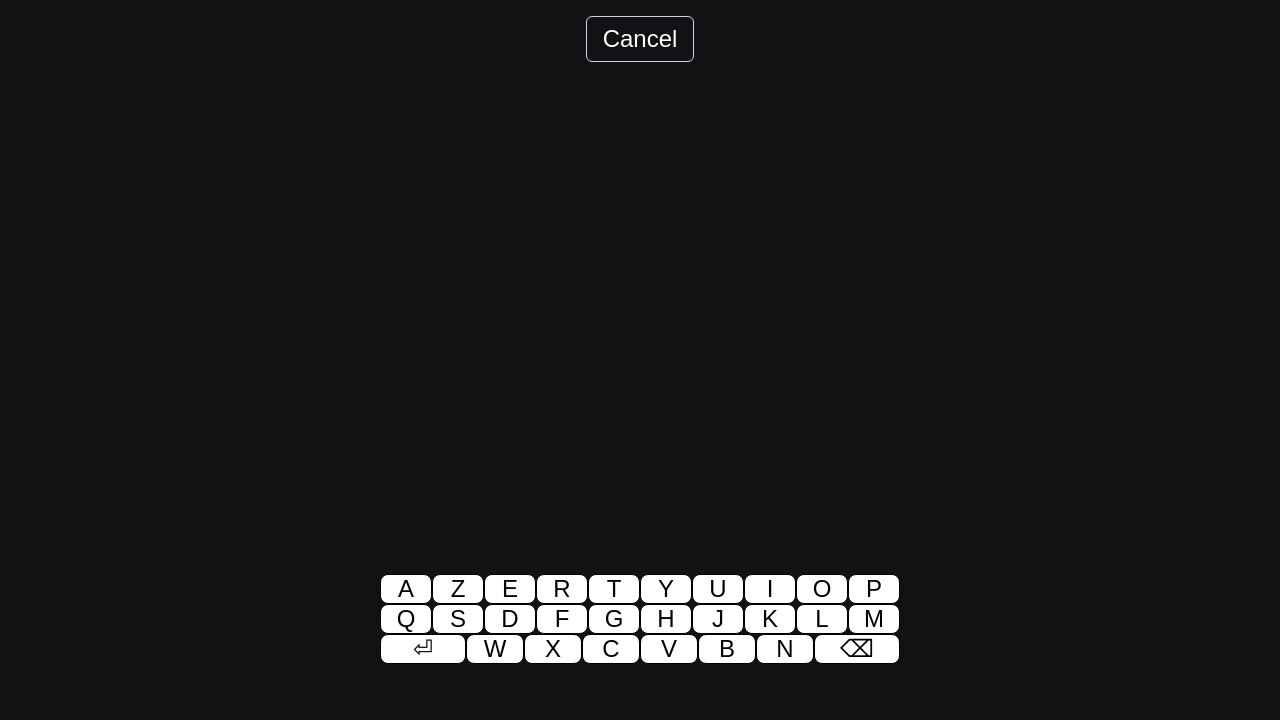
Test: game › should open the confirmation modal when Cancel is clicked
Click the button "Cancel" at [640, 39], box [586,16,694,62]
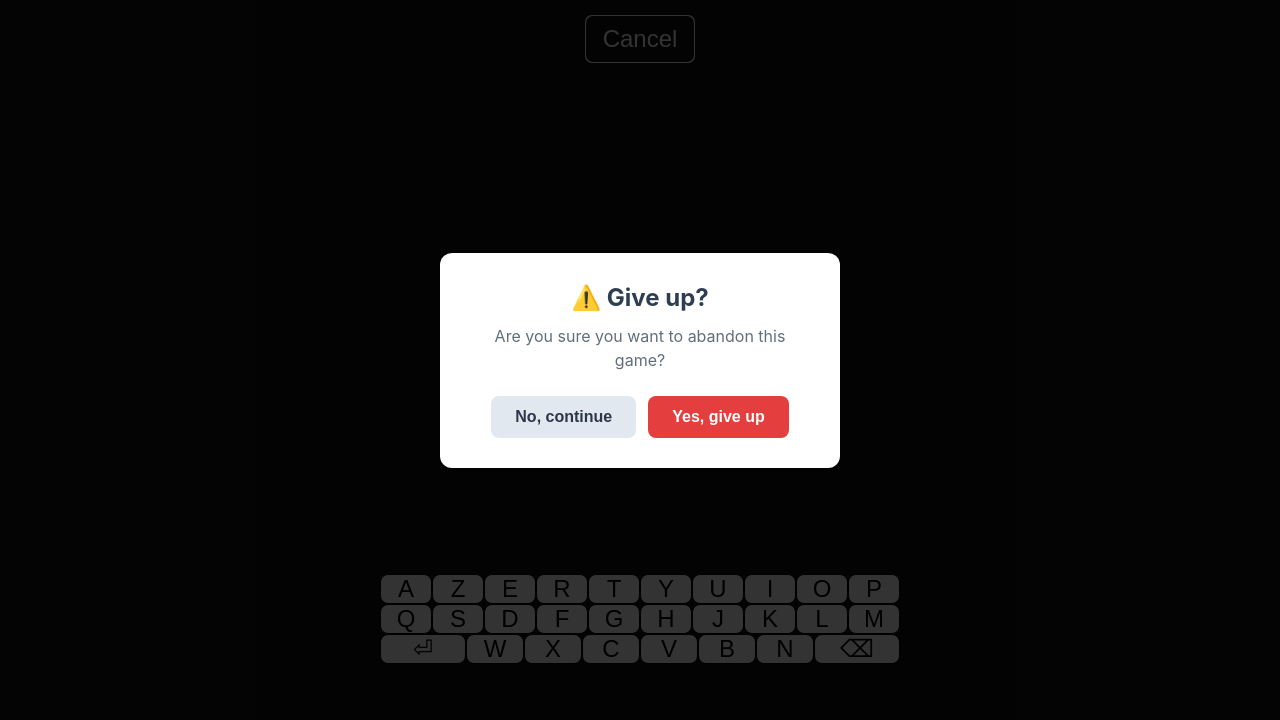
Expected: the text "Are you sure you want to abandon this game?" is shown, [470,324,810,372]
